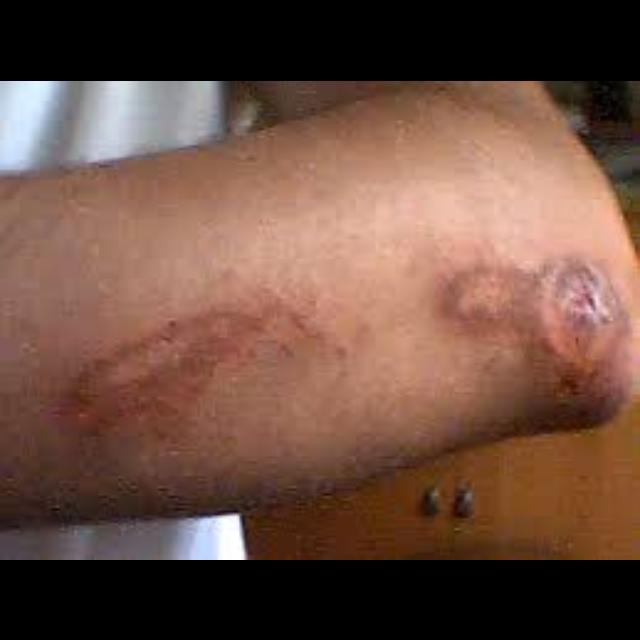scarring: (35, 290, 352, 440), (423, 234, 632, 396)
